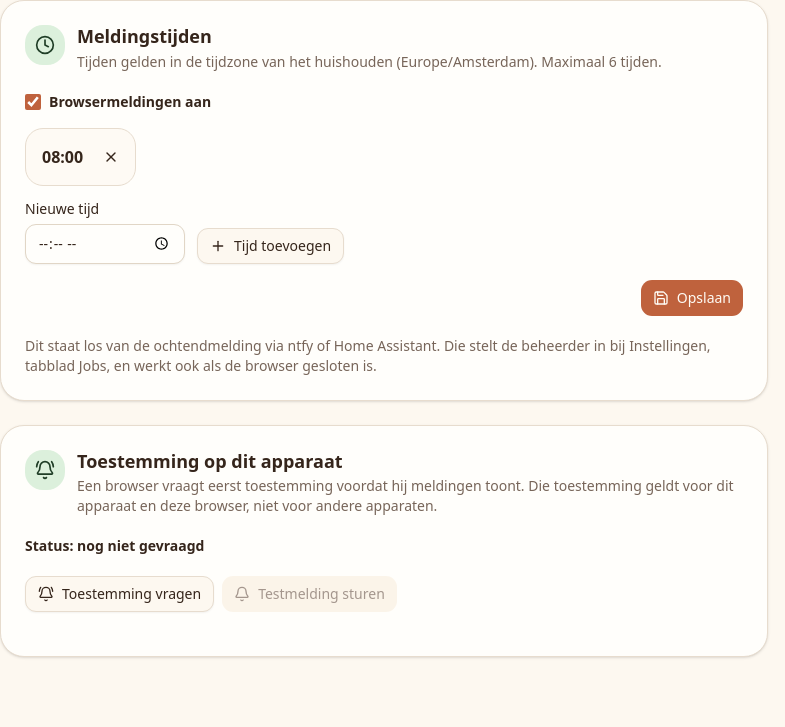
Test: BrowserNotificationsSection moments › saves a time that was typed but not added yet
Type "07:00" into the time field labelled "Nieuwe tijd".
click(105, 244); type("07:00")  # box [25, 224, 185, 264]
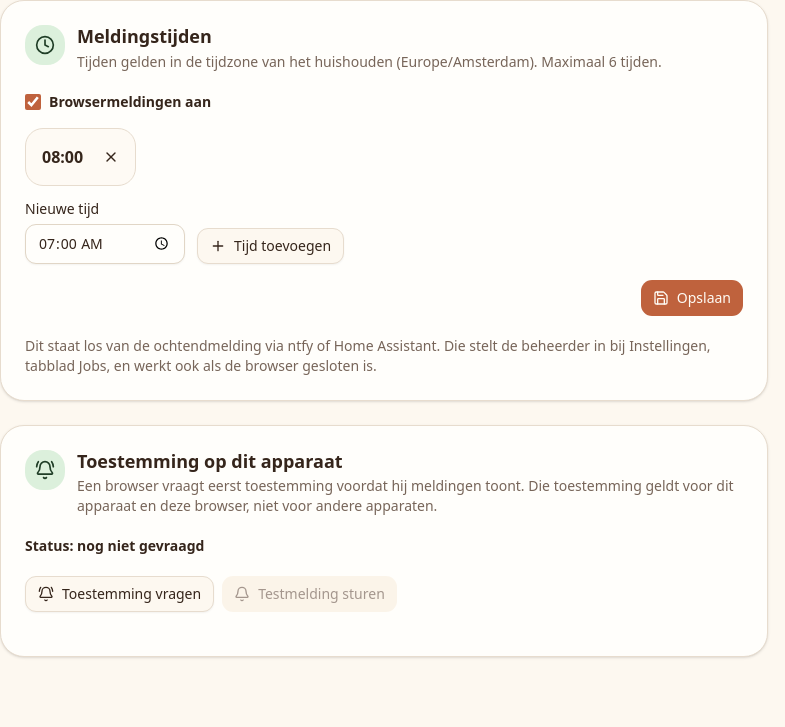
Click the button "Opslaan".
click(692, 298)  # box [641, 280, 743, 316]
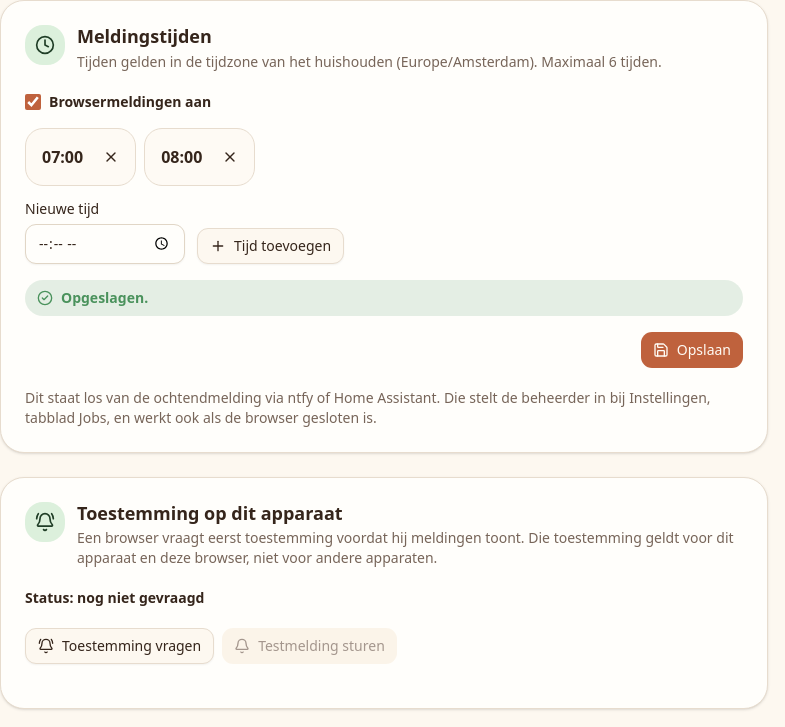
Check: the number of list items is 2, box [25, 128, 136, 186]; [144, 128, 255, 186]
